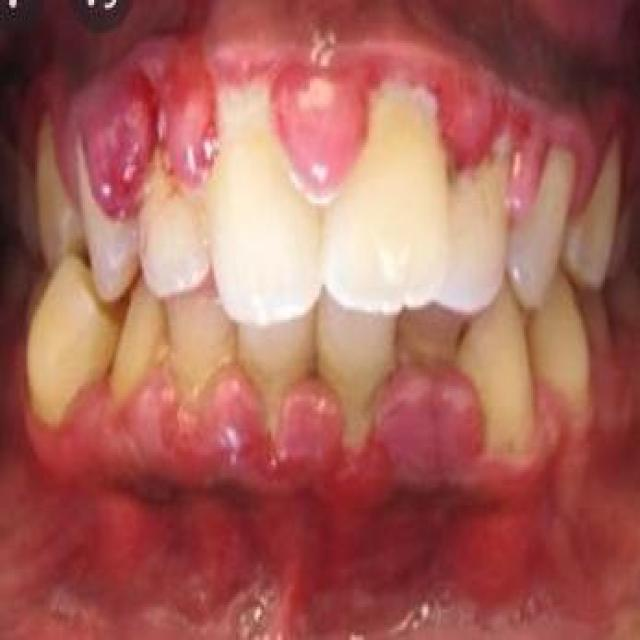Gingivitis: (121, 491, 497, 588), (86, 76, 154, 214), (393, 378, 474, 475), (171, 88, 213, 176)
